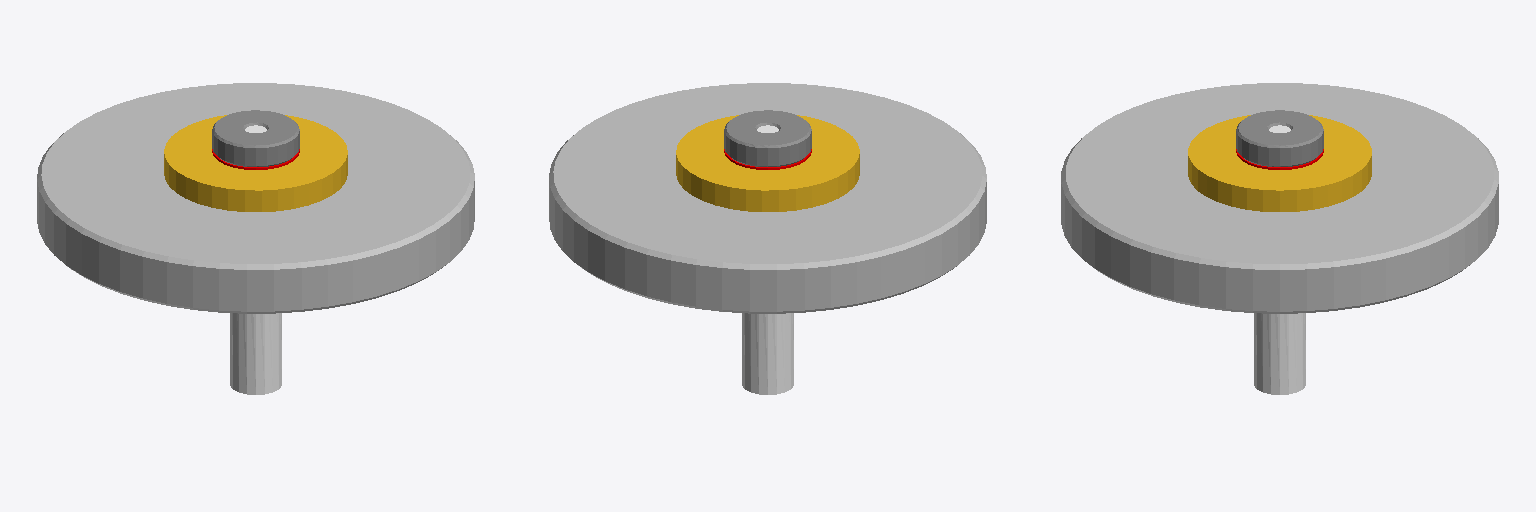
The model's file is scheibe_asm.obj.
The picture shows the model from 3 angles: view 1: azimuth 30°, elevation 25°; view 2: azimuth 150°, elevation 25°; view 3: azimuth 270°, elevation 25°; orthographic projection.
Parts seen in each view (by area): view 1: 3, 8, 1, 12; view 2: 3, 8, 1, 12; view 3: 3, 8, 1, 12.
Part boxes in pixels (x1,y1,x2,y2): 3: (37, 83, 474, 313); 8: (164, 115, 347, 211); 1: (230, 125, 281, 394); 12: (212, 110, 299, 166); 3: (549, 83, 986, 313); 8: (676, 115, 859, 211); 1: (742, 125, 793, 394); 12: (724, 110, 811, 166); 3: (1061, 83, 1498, 313); 8: (1188, 115, 1371, 211); 1: (1254, 125, 1305, 394); 12: (1236, 110, 1323, 166).
Bounding box in the file's own units: 100 × 64.5 × 99.8.